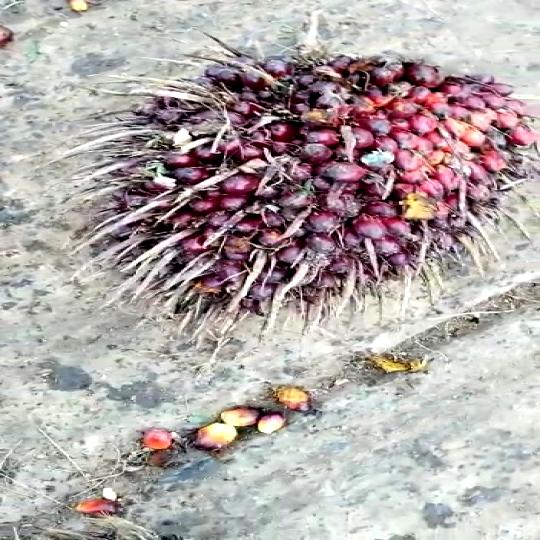masak: (87, 53, 535, 326)
